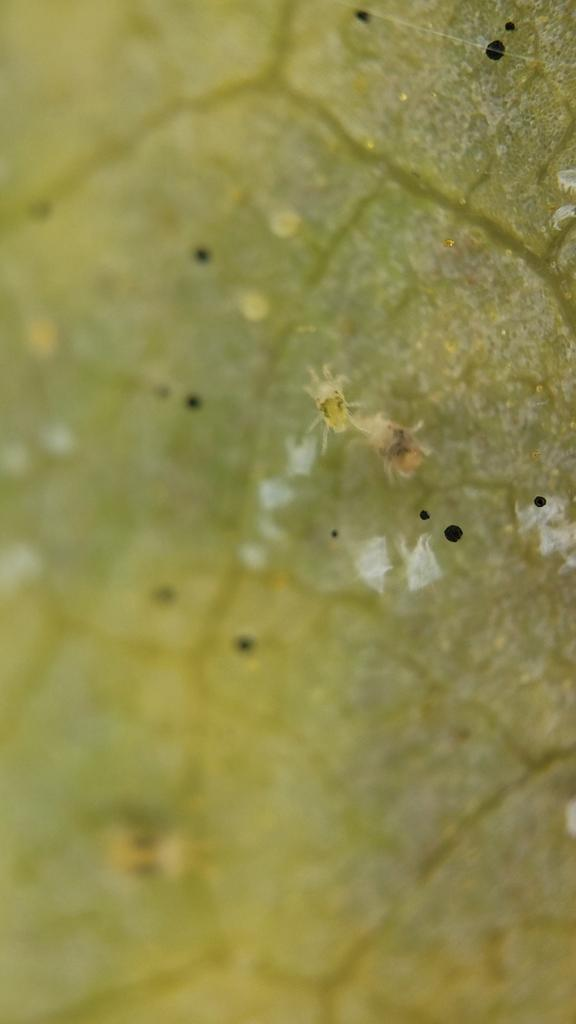tiny_pests: (280, 332, 369, 448), (359, 395, 443, 494)
